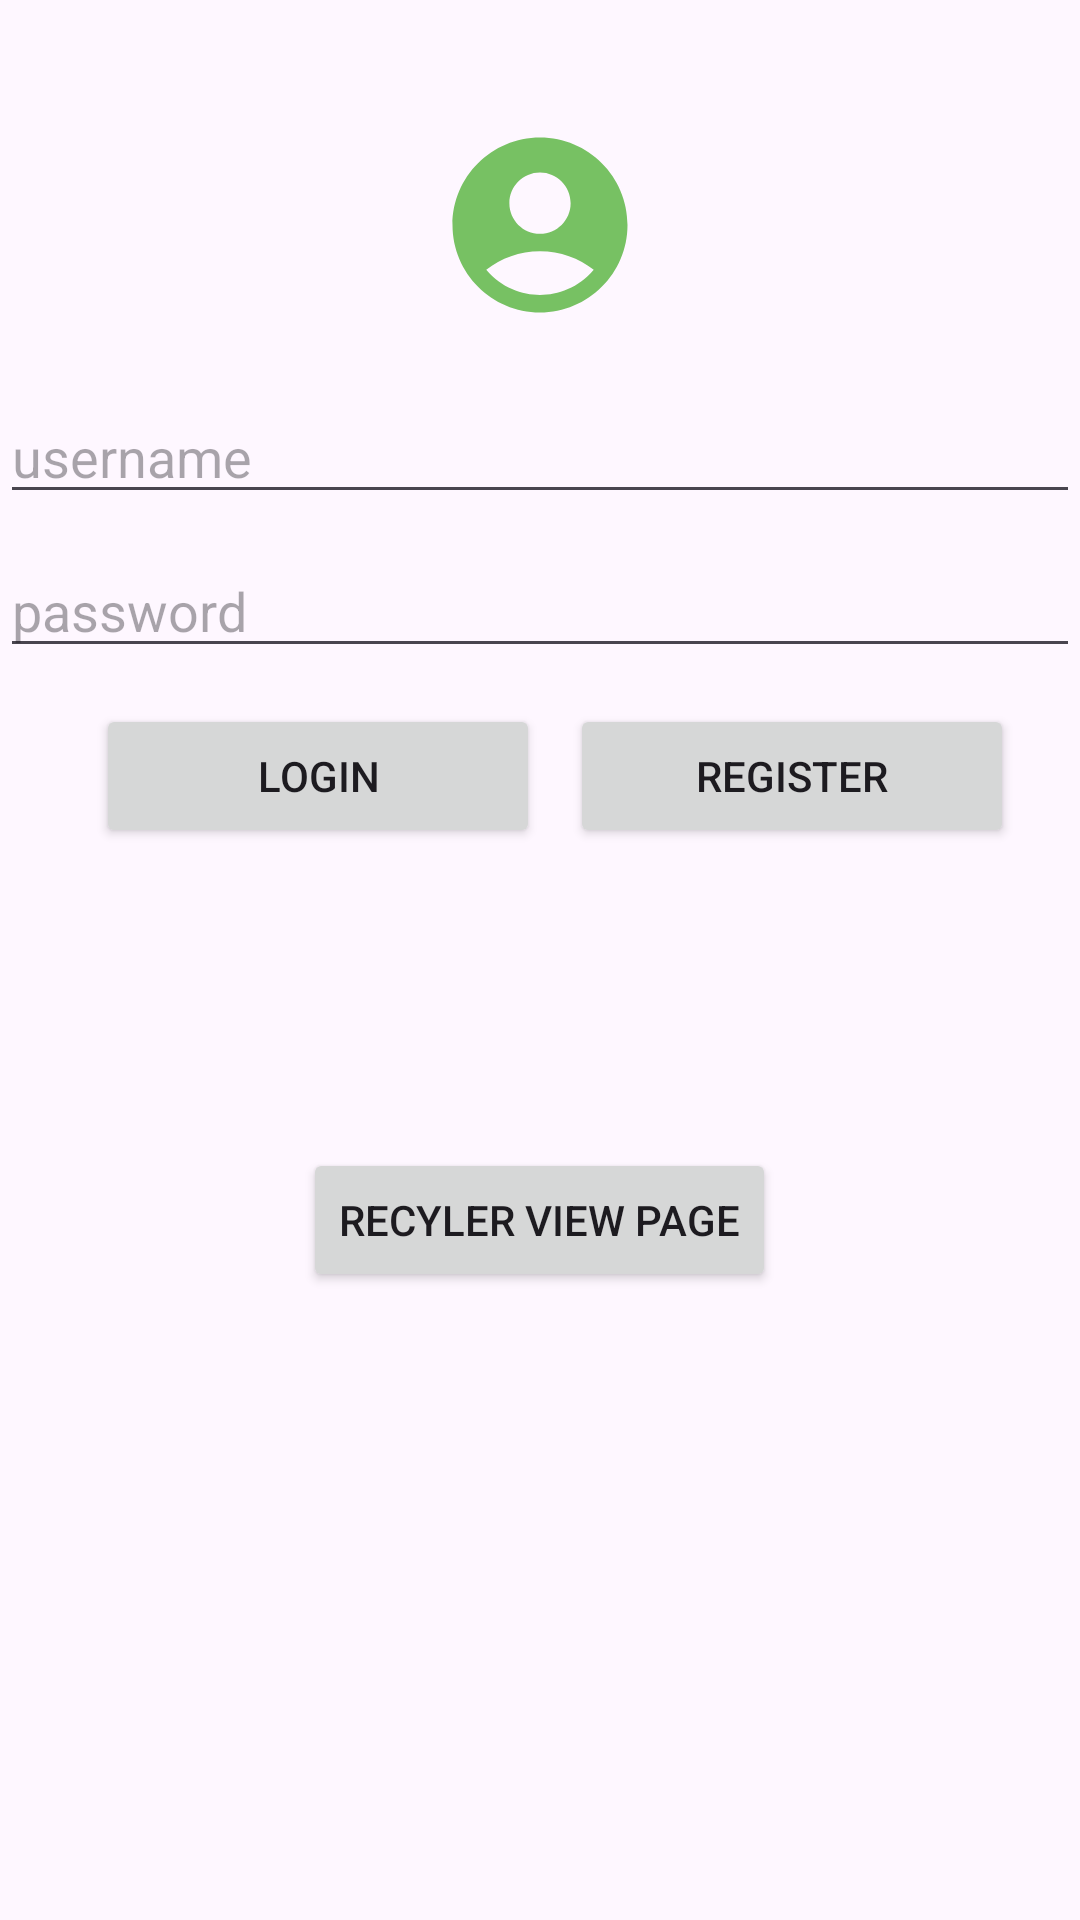

Screen size 1080×1920. Icon name, then its center in pixels as [x,y]:
profile: [540,225]
